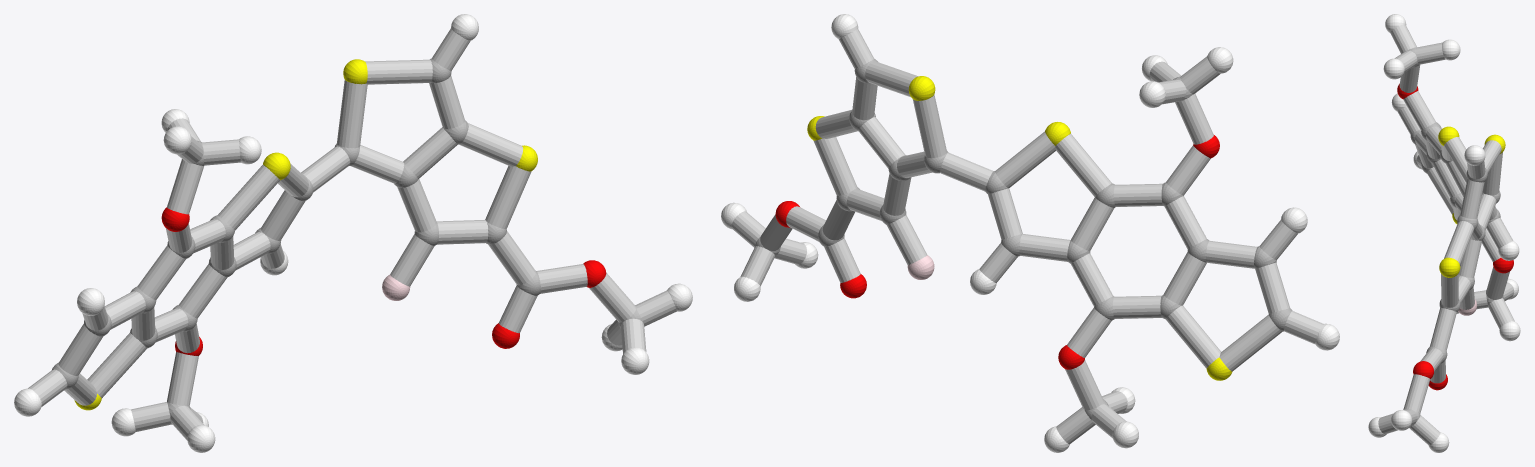
The model's file is color.glb.
3 renders of one model, left to right at view 1: azimuth 30°, elevation 25°; view 2: azimuth 150°, elevation 25°; view 3: azimuth 270°, elevation 25°, orthographic. The views are drawn at different scales.
Visible parts, largest first — view 1: grp15205, grp8689, grp1, grp7241, grp13395; view 2: grp15205, grp8689, grp1, grp13395, grp7241; view 3: grp15205, grp8689, grp1, grp7241, grp13395.
Part boxes in pixels (x1,y1,x2,y2): grp15205: (28, 28, 676, 440); grp8689: (14, 14, 692, 452); grp1: (52, 58, 641, 424); grp7241: (74, 59, 537, 410); grp13395: (161, 207, 606, 355); grp15205: (731, 29, 1323, 444); grp8689: (721, 14, 1339, 452); grp1: (755, 58, 1292, 419); grp13395: (775, 135, 1219, 369); grp7241: (807, 76, 1232, 380); grp15205: (1378, 24, 1514, 445); grp8689: (1368, 14, 1520, 452); grp1: (1403, 47, 1503, 427); grp7241: (1438, 126, 1505, 277); grp13395: (1397, 83, 1513, 390).
Size of the model in its own units: 16.21 by 9.15 by 4.33.
